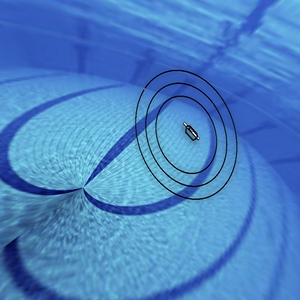circle: (129, 60, 246, 203)
submarine: (179, 117, 204, 149)
